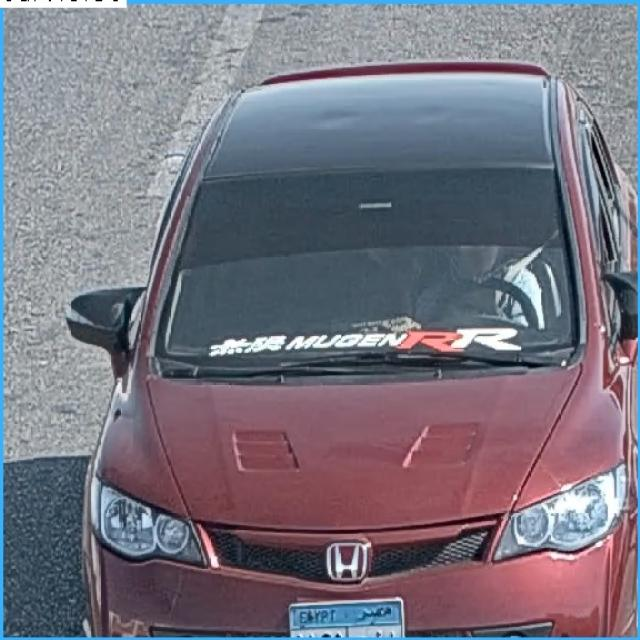windshield: (158, 182, 586, 357)
